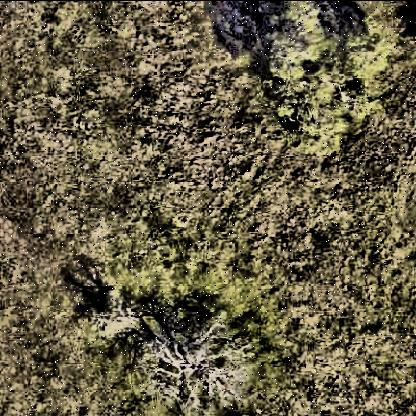tree-top: (243, 3, 402, 149), (138, 306, 249, 416), (85, 278, 145, 348)
